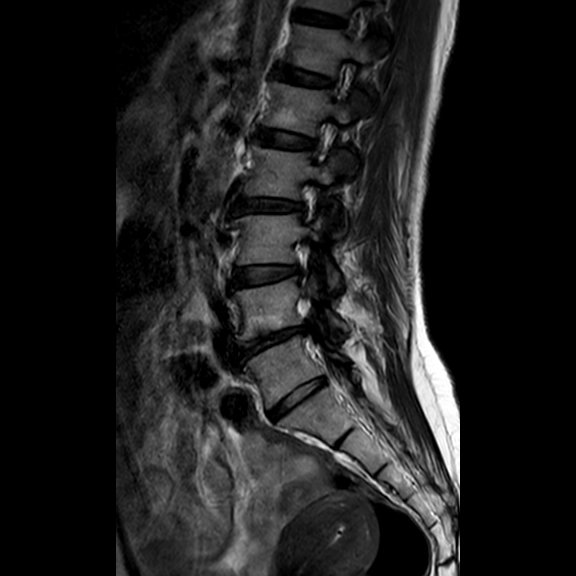LFS0: (298, 110, 342, 170), (285, 172, 328, 227)
